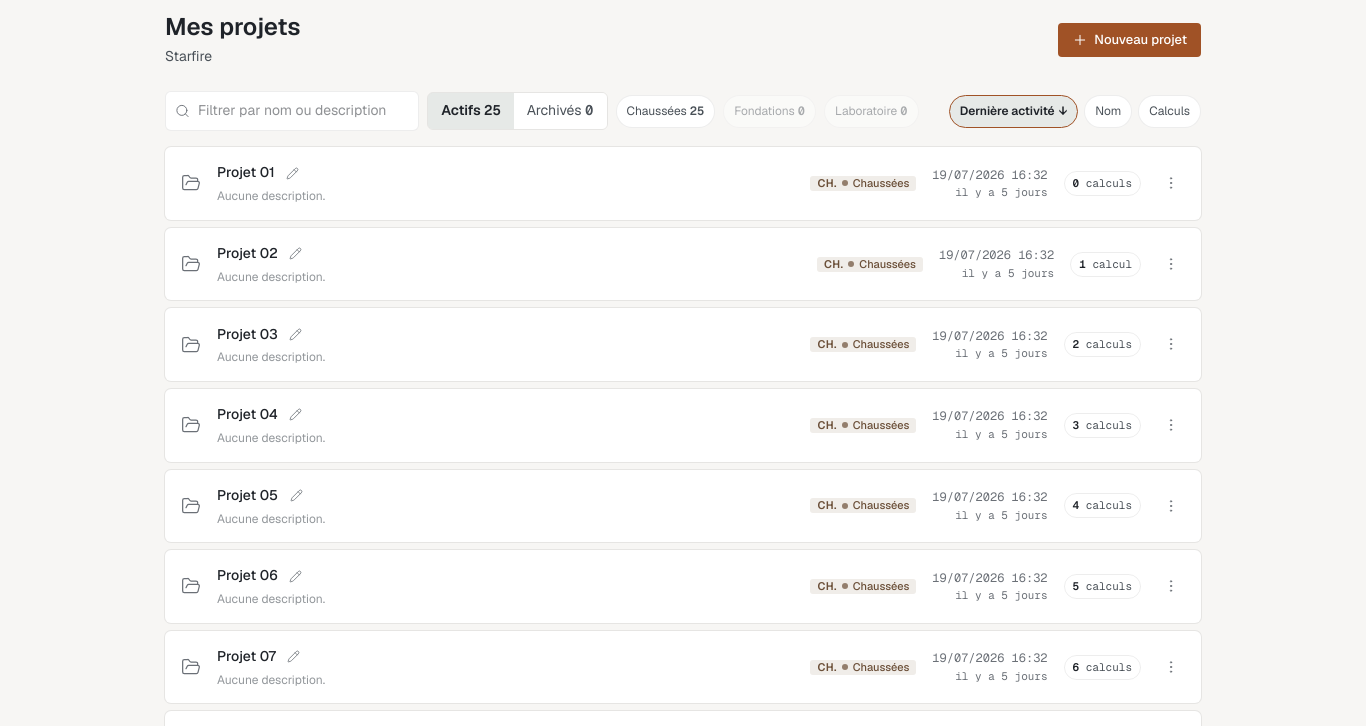
Liste des projets — pagination › #2 GIVEN la page 1 — WHEN on clique Suivant — THEN la page 2 montre les projets 11 à 20
This screenshot has width=1366, height=726.
Click the button "Nom".
click(1108, 111)  # box [1084, 95, 1132, 128]
(page scrolled)
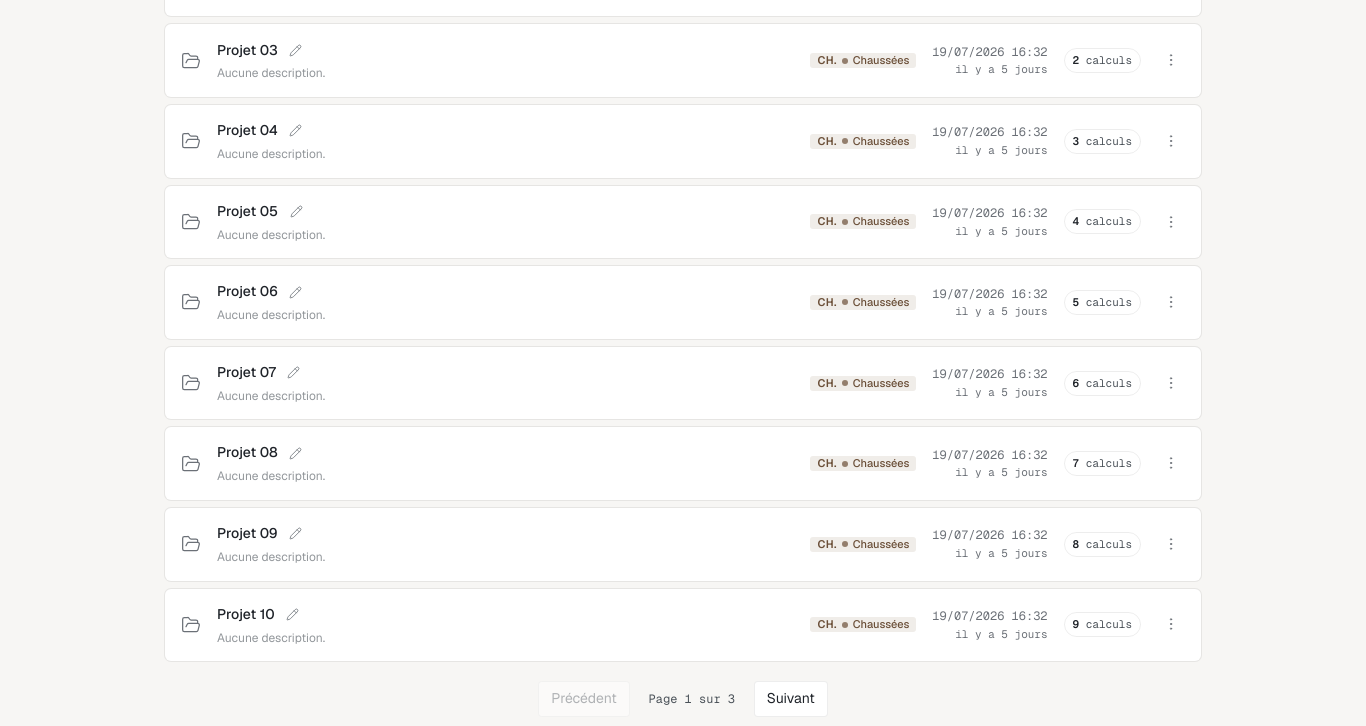
Click the button with aria-label "Page suivante".
click(791, 699)  # box [754, 681, 828, 717]
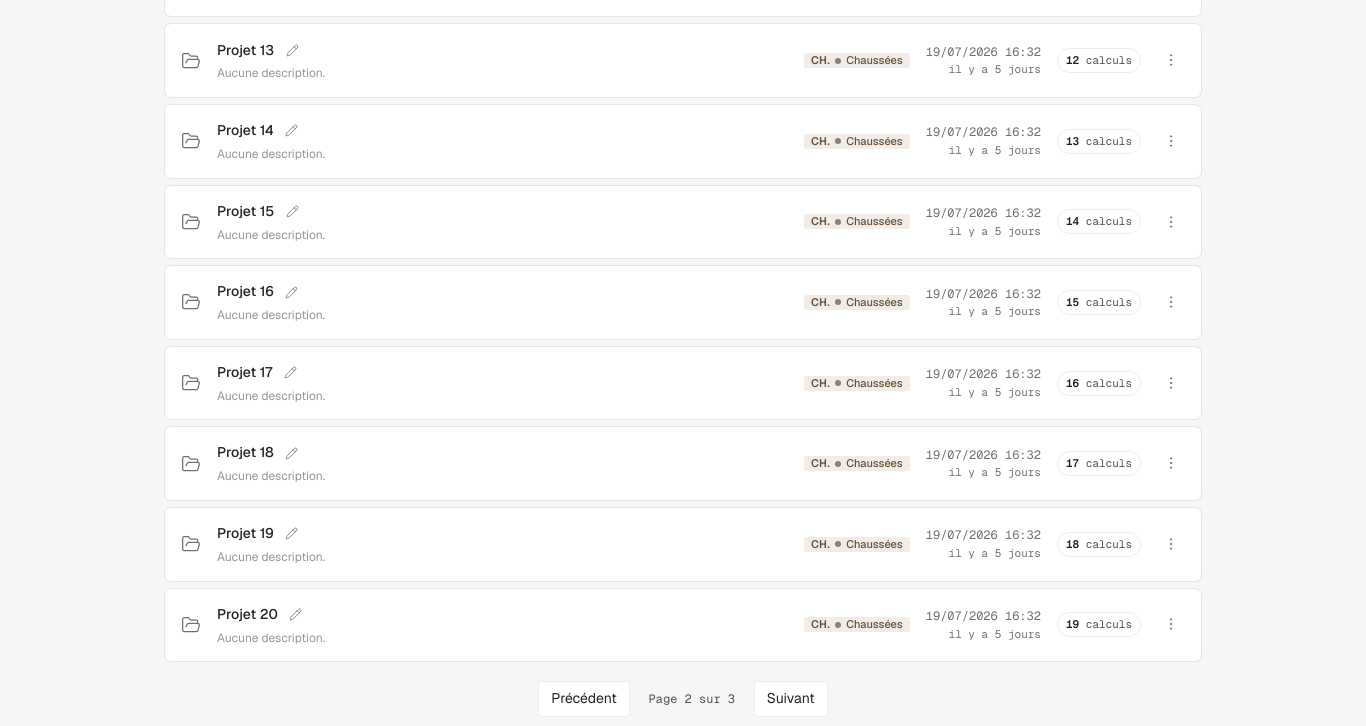
Now the list item with aria-label "Projet Projet 20" shows "Projet 20", box [217, 605, 278, 623]
Now the text "Page 2 sur 3" is shown, box [642, 690, 742, 708]
Now the button with aria-label "Page précédente" is enabled, box [538, 681, 630, 717]
